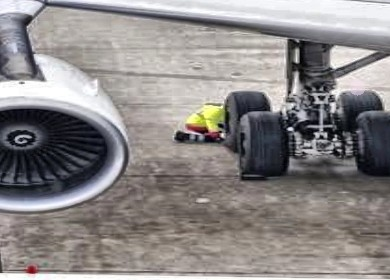chock: (234, 170, 272, 182)
wheel: (235, 108, 288, 179), (223, 91, 272, 154), (352, 108, 390, 177), (334, 89, 382, 131)
